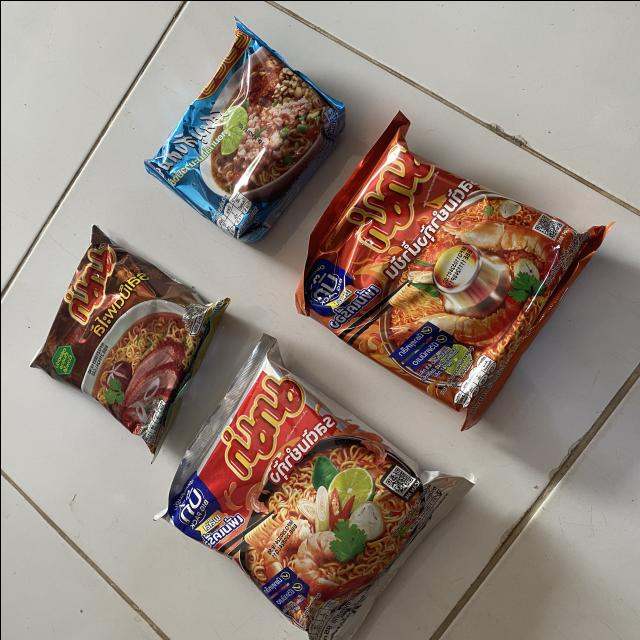plastik: (295, 112, 609, 428), (158, 334, 472, 640), (30, 225, 229, 457), (144, 18, 344, 242)
